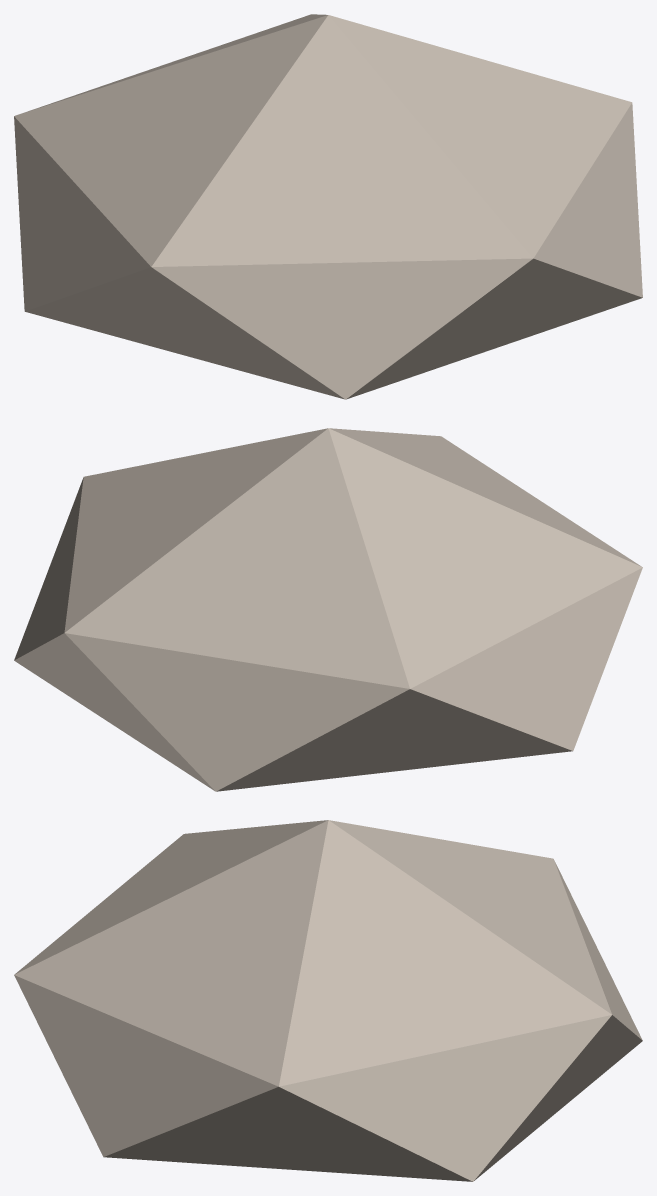
Rendered from cueva_bloque_2.glb.
The picture shows the model from 3 angles, top to bottom: view 1: azimuth 30°, elevation 25°; view 2: azimuth 150°, elevation 25°; view 3: azimuth 270°, elevation 25°; orthographic projection. The views are drawn at different scales.
Visible parts, largest first — view 1: Cave_Boulder_2; view 2: Cave_Boulder_2; view 3: Cave_Boulder_2.
Boxes of the visible parts, <box> form: Cave_Boulder_2: <box>14,14,642,399</box>; Cave_Boulder_2: <box>14,428,642,791</box>; Cave_Boulder_2: <box>14,820,642,1181</box>.
Size of the model in its own units: 3.36 by 1.42 by 3.36.
